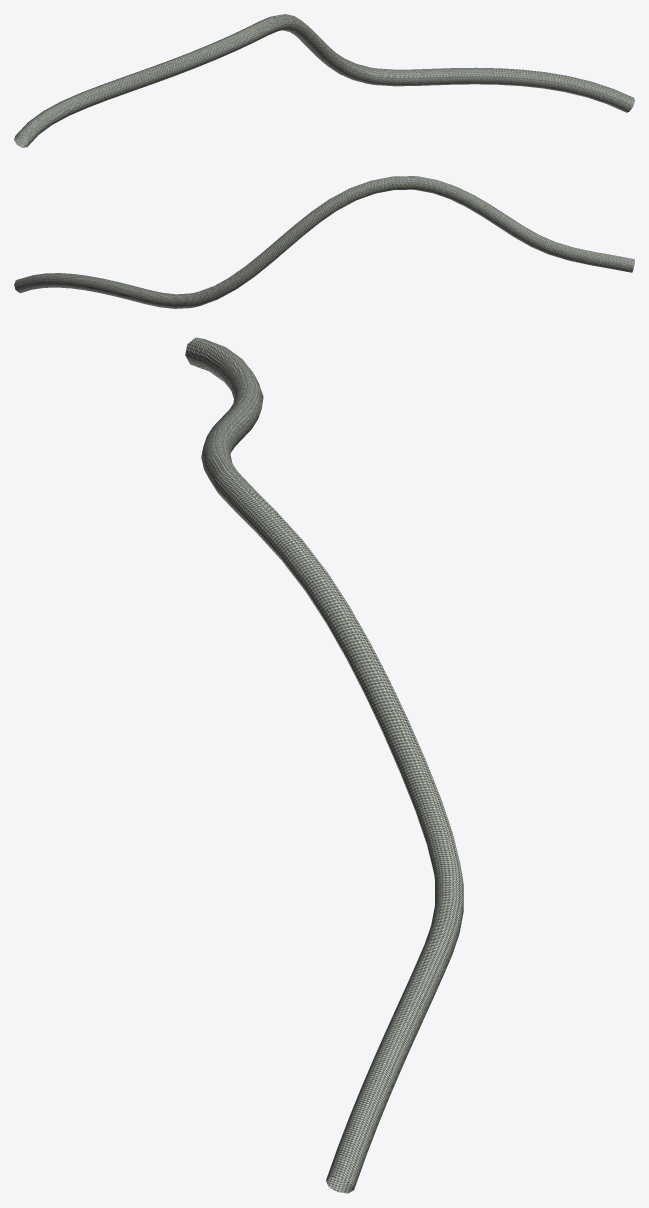
Rendered from microtubule31.fbx.
3 views of the same model, one above another, from view 1: azimuth 30°, elevation 25°; view 2: azimuth 150°, elevation 25°; view 3: azimuth 270°, elevation 25° (orthographic). The views are drawn at different scales.
Visible parts, largest first — view 1: microtubule31; view 2: microtubule31; view 3: microtubule31.
Boxes of the visible parts, bbox=[...] form: microtubule31: bbox=[14, 14, 634, 147]; microtubule31: bbox=[14, 176, 634, 308]; microtubule31: bbox=[185, 337, 463, 1193].
Size of the model in its own units: 6800 by 2047 by 1403.
1 material, 1 textured.
